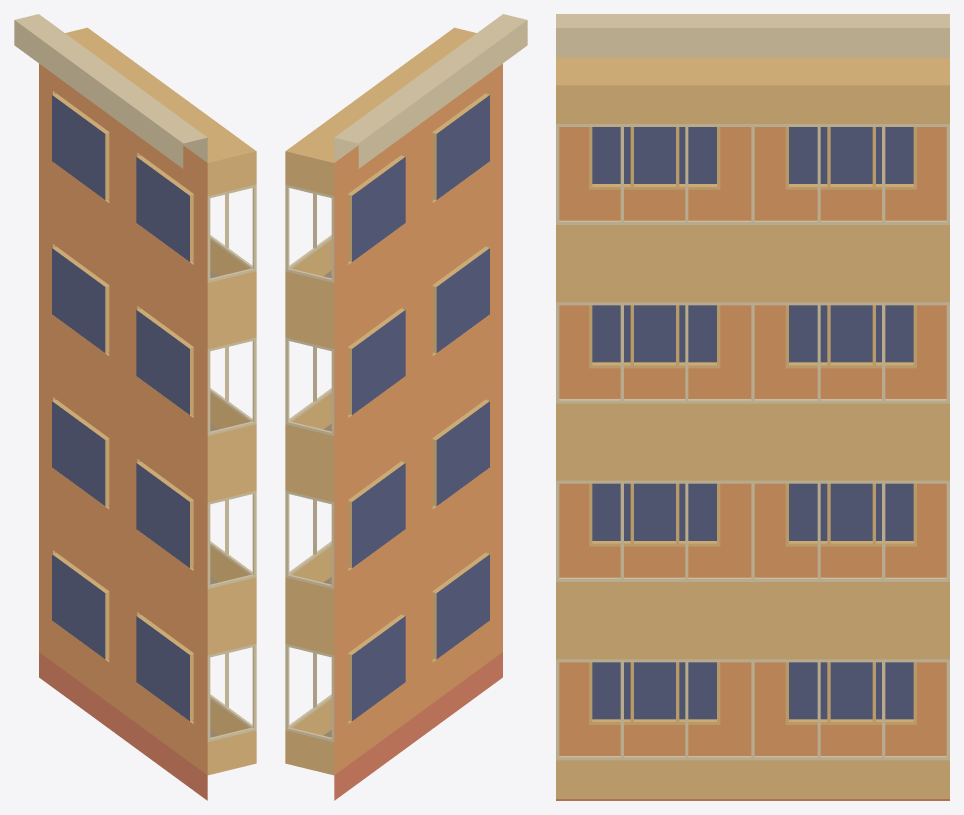
The model's file is apartment_balconies.glb.
3 views of the same model, side by side, from view 1: azimuth 30°, elevation 25°; view 2: azimuth 150°, elevation 25°; view 3: azimuth 270°, elevation 25° (orthographic). The views are drawn at different scales.
Parts seen in each view (by area): view 1: Cube; view 2: Cube; view 3: Cube.
Boxes of the visible parts, x1=… form: Cube: x1=14, y1=14, x2=256, y2=800; Cube: x1=285, y1=14, x2=527, y2=800; Cube: x1=556, y1=14, x2=949, y2=800.
Size of the model in its own units: 1.5 by 13 by 6.
1 material, 1 textured.
